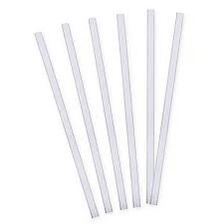drinking_straw: (30, 27, 104, 222), (148, 8, 187, 208), (112, 9, 144, 210)
